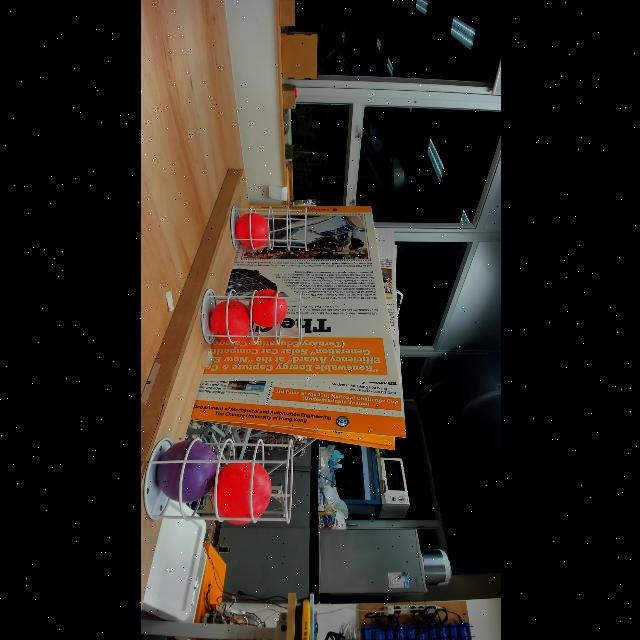P: (155, 441, 219, 504)
R: (211, 459, 271, 525), (208, 300, 250, 342), (248, 288, 286, 328), (234, 213, 268, 249)
S: (142, 438, 294, 524), (200, 288, 302, 346), (229, 205, 307, 251)
